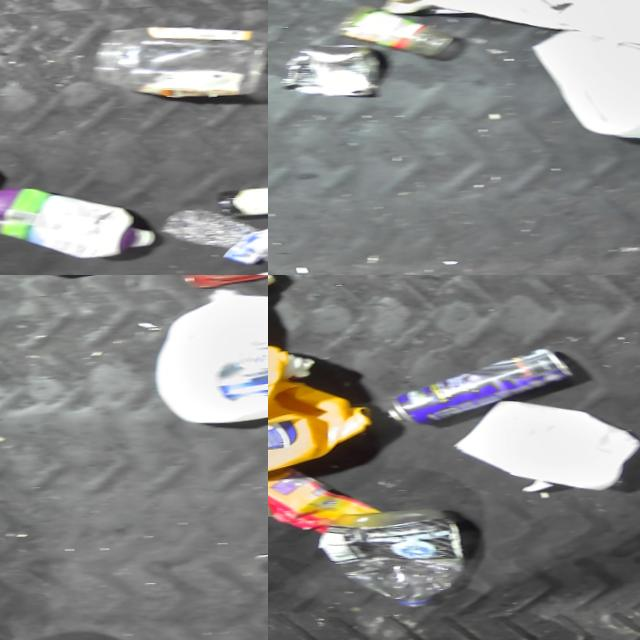can: (389, 346, 577, 428), (268, 468, 333, 518)
milk_jug: (152, 286, 268, 428), (521, 23, 640, 145)
non_white_jug: (268, 339, 377, 483), (0, 182, 158, 264)
plastic_bottle: (318, 505, 470, 613), (159, 205, 268, 275)
